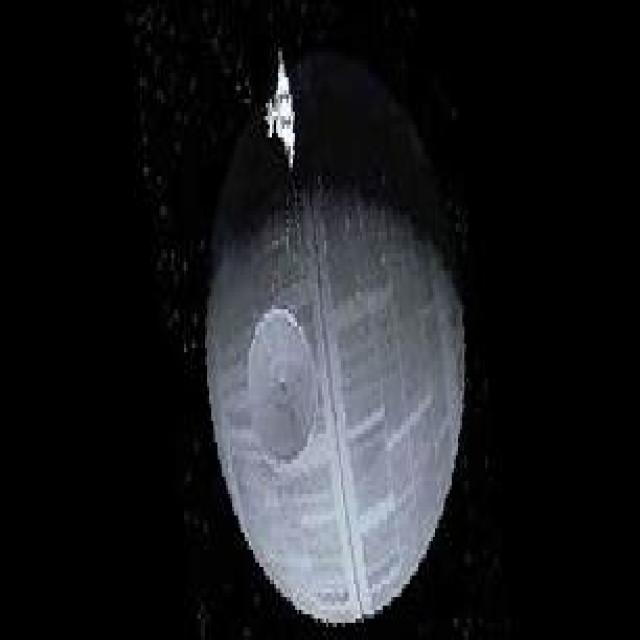Death Star: (194, 24, 476, 632)
